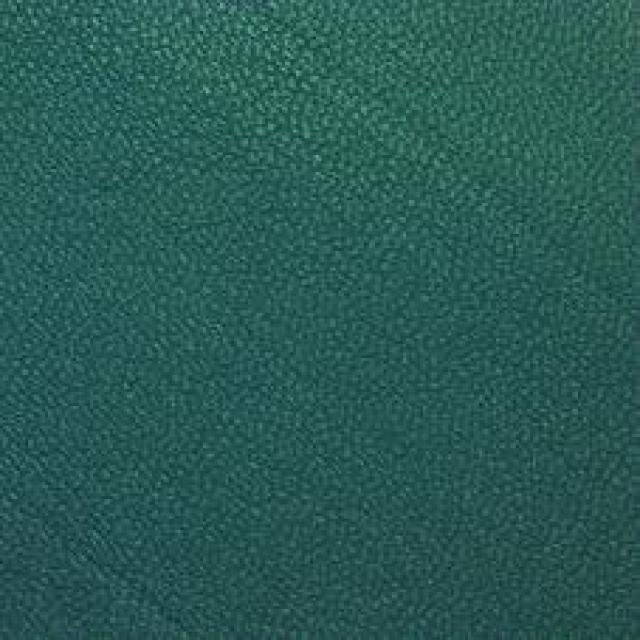Growth Marks: (304, 51, 552, 256), (24, 492, 171, 614)
